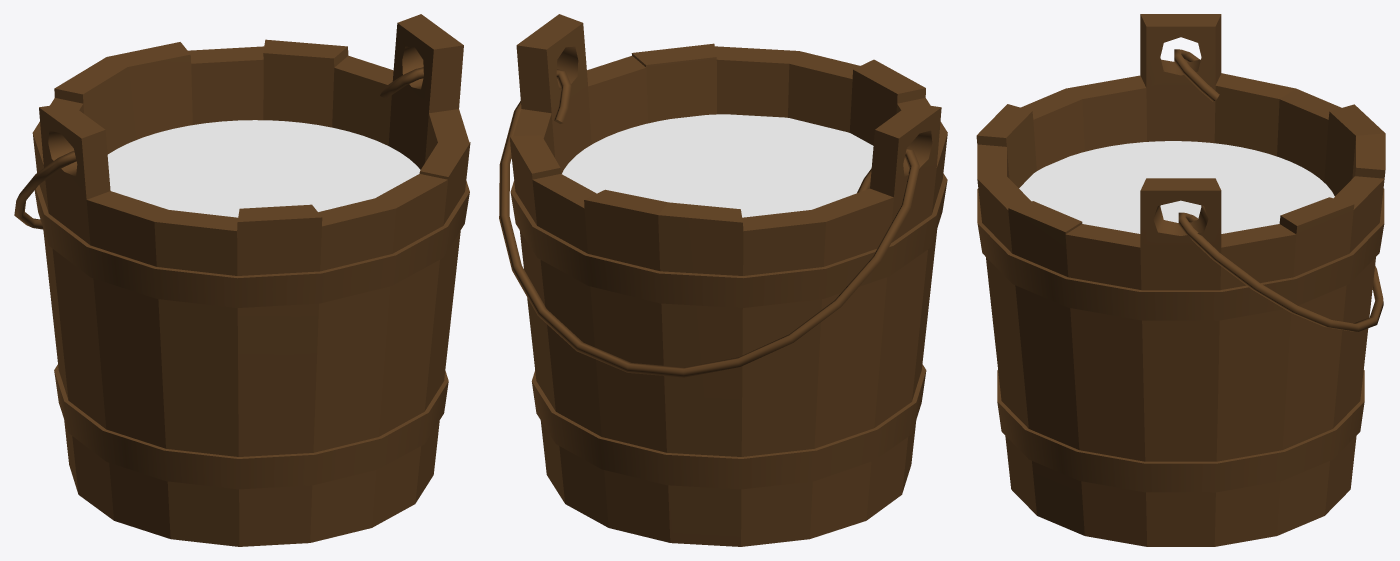
The model's file is Secchio con latte 2.fbx.
3 renders of one model, left to right at view 1: azimuth 30°, elevation 25°; view 2: azimuth 150°, elevation 25°; view 3: azimuth 270°, elevation 25°, orthographic. The views are drawn at different scales.
Parts seen in each view (by area): view 1: Object_1; view 2: Object_1; view 3: Object_1.
Part boxes in pixels (left/top/right/bottom): Object_1: left=14, top=14, right=470, bottom=546; Object_1: left=499, top=14, right=947, bottom=546; Object_1: left=976, top=14, right=1385, bottom=546.
Bounding box in the file's own units: 37.61 × 35.66 × 35.45.
